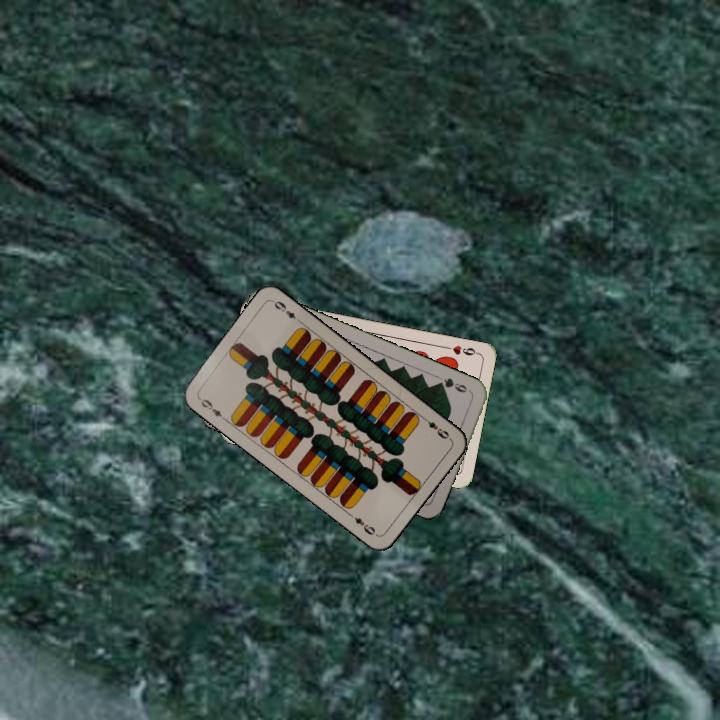E9: (418, 413, 452, 442), (195, 394, 229, 423)
G9: (433, 373, 474, 396)
H9: (440, 341, 481, 358)
